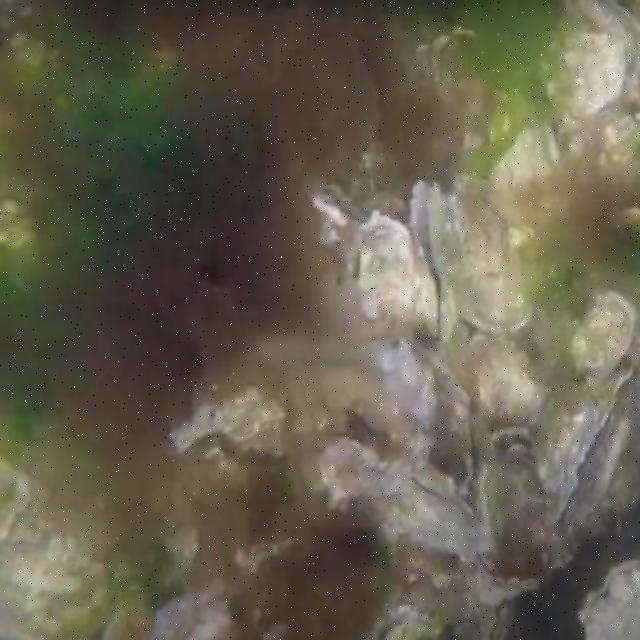Oyster-Closed: (453, 185, 532, 337), (347, 210, 435, 341), (163, 375, 289, 456), (369, 486, 486, 561), (543, 25, 627, 121), (496, 119, 562, 238), (467, 337, 540, 430), (567, 293, 628, 375), (580, 557, 640, 640), (464, 566, 535, 609), (0, 470, 33, 544)
Oyster-Open: (540, 367, 640, 534), (406, 180, 463, 342)
